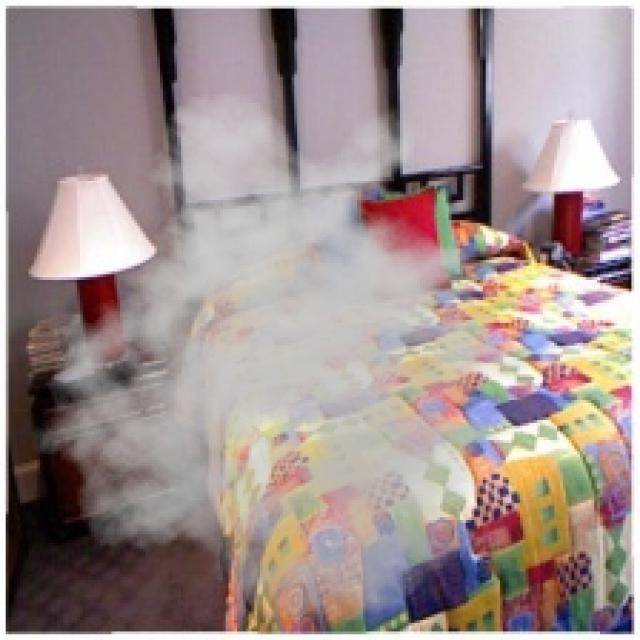smoke: (20, 88, 563, 623)
